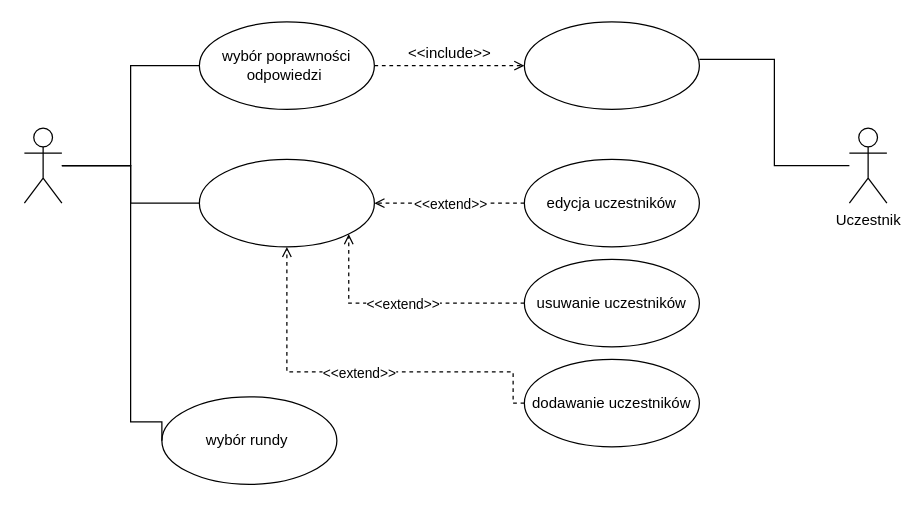
Image size: 923x506. Some labels were removed from this diagram. Each missing label, with the centre of its shape:
Admin: the point at 42,165
informacja o uczestniku odpowiadającym: the point at 611,65
zarządzanie uczestnikami: the point at 286,202
